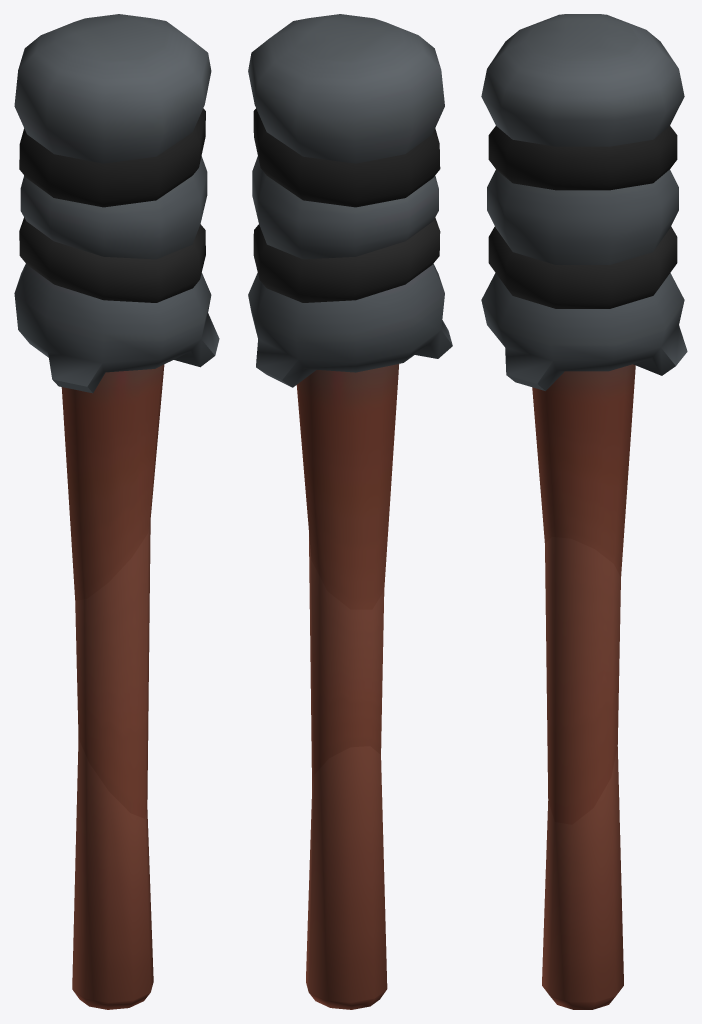
Rendered from torch_burnt.glb.
3 renders of one model, left to right at view 1: azimuth 30°, elevation 25°; view 2: azimuth 150°, elevation 25°; view 3: azimuth 270°, elevation 25°, orthographic.
Visible parts, largest first — view 1: torch_burnt; view 2: torch_burnt; view 3: torch_burnt.
Part boxes in pixels (box(x1,y1,x2,y2)): torch_burnt: box(14, 14, 219, 1009); torch_burnt: box(248, 14, 452, 1009); torch_burnt: box(481, 14, 687, 1009).
Bounding box in the file's own units: 0.2109 × 1.17 × 0.2254.
Materials: 1 (1 with a texture image).
